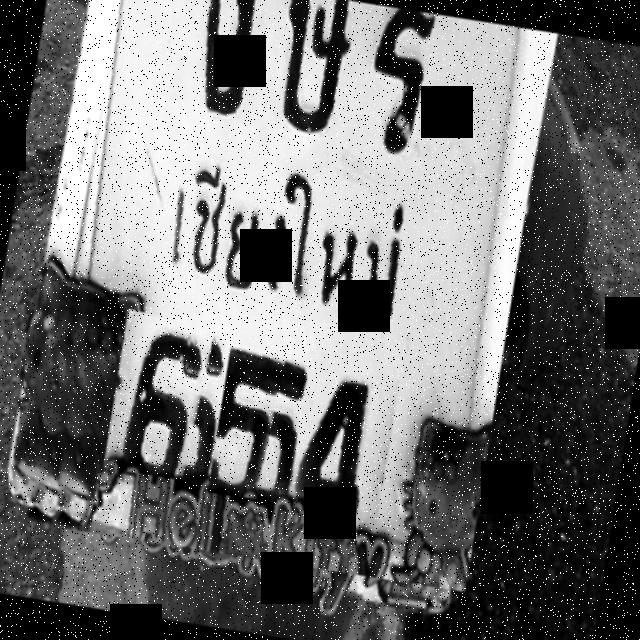letters: (284, 366, 400, 535), (103, 309, 216, 482), (356, 6, 455, 160), (208, 333, 290, 501), (175, 0, 275, 118), (277, 0, 358, 124)
license-plate: (59, 0, 554, 592)
province: (159, 138, 433, 336)
